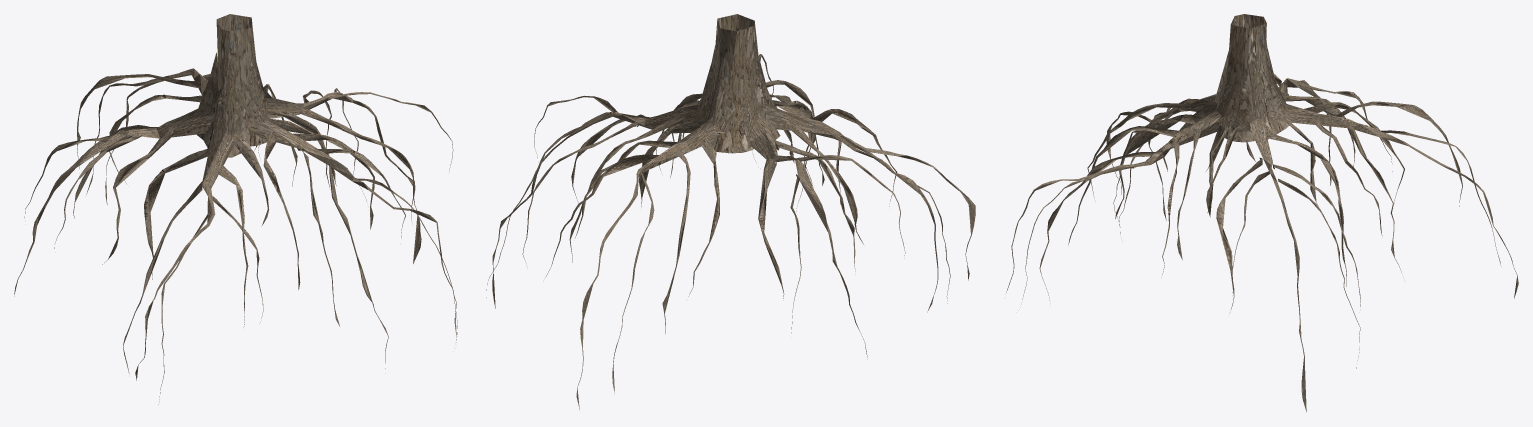
The model's file is Roots.fbx.
3 views of the same model, side by side, from view 1: azimuth 30°, elevation 25°; view 2: azimuth 150°, elevation 25°; view 3: azimuth 270°, elevation 25° (orthographic). The views are drawn at different scales.
Parts seen in each view (by area): view 1: Roots; view 2: Roots; view 3: Roots.
Part boxes in pixels (box(x1,y1,x2,y2)): Roots: box(14, 14, 457, 404); Roots: box(486, 14, 975, 409); Roots: box(1006, 14, 1518, 411).
Size of the model in its own units: 160 by 124 by 194.
1 material, 1 textured.
